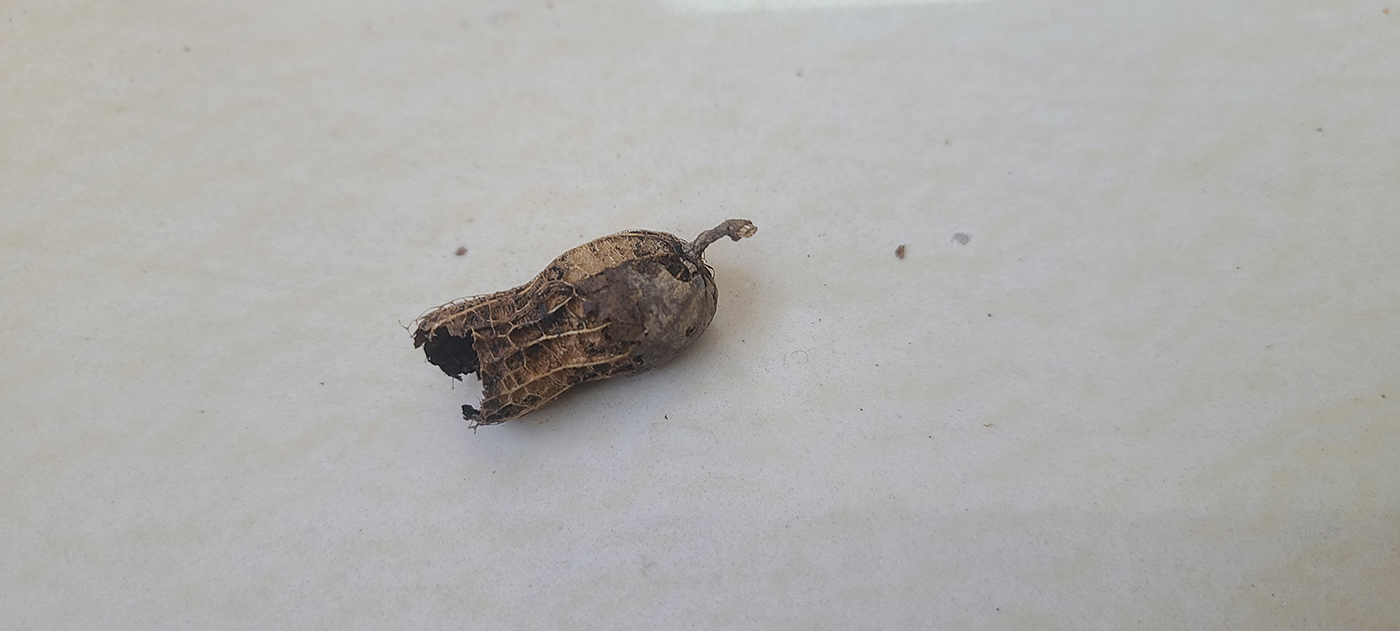l: (409, 227, 721, 427)
